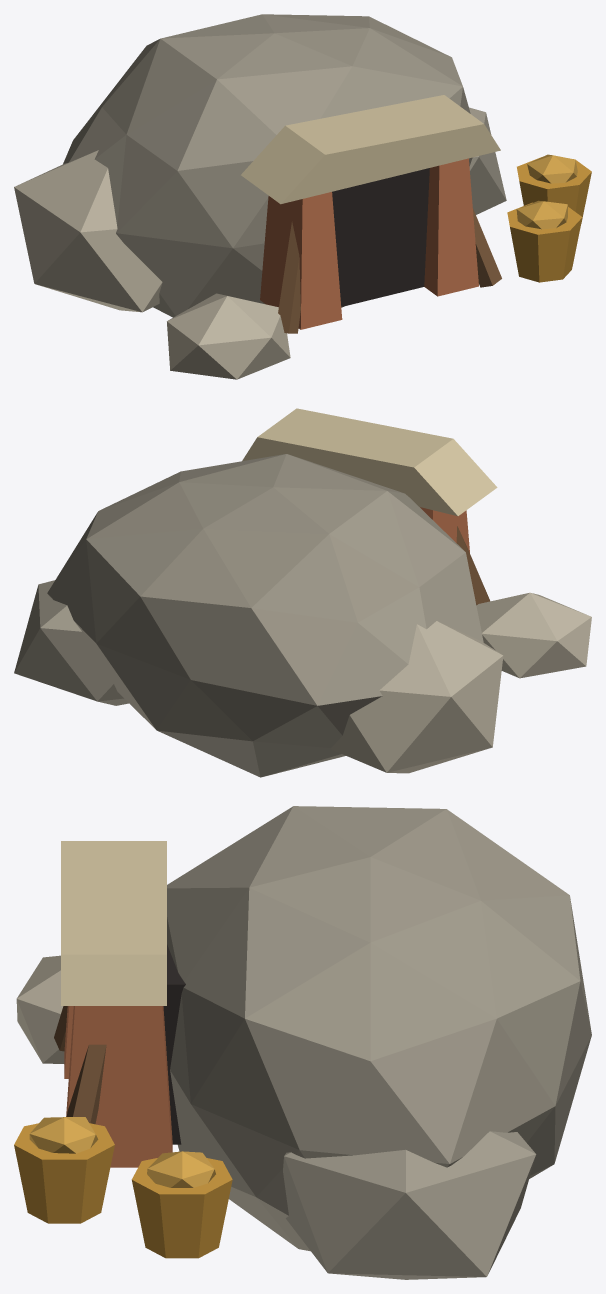
Rendered from ns-mine-pit.glb.
The picture shows the model from 3 angles, top to bottom: view 1: azimuth 30°, elevation 25°; view 2: azimuth 150°, elevation 25°; view 3: azimuth 270°, elevation 25°; orthographic projection. The views are drawn at different scales.
Parts seen in each view (by area): view 1: Icosphere; view 2: Icosphere; view 3: Icosphere.
Boxes of the visible parts, x1,y1,x2,y2 form: Icosphere: (14, 14, 591, 379); Icosphere: (14, 408, 591, 777); Icosphere: (14, 806, 591, 1279).
Size of the model in its own units: 0.6107 by 0.3294 by 0.4911.
